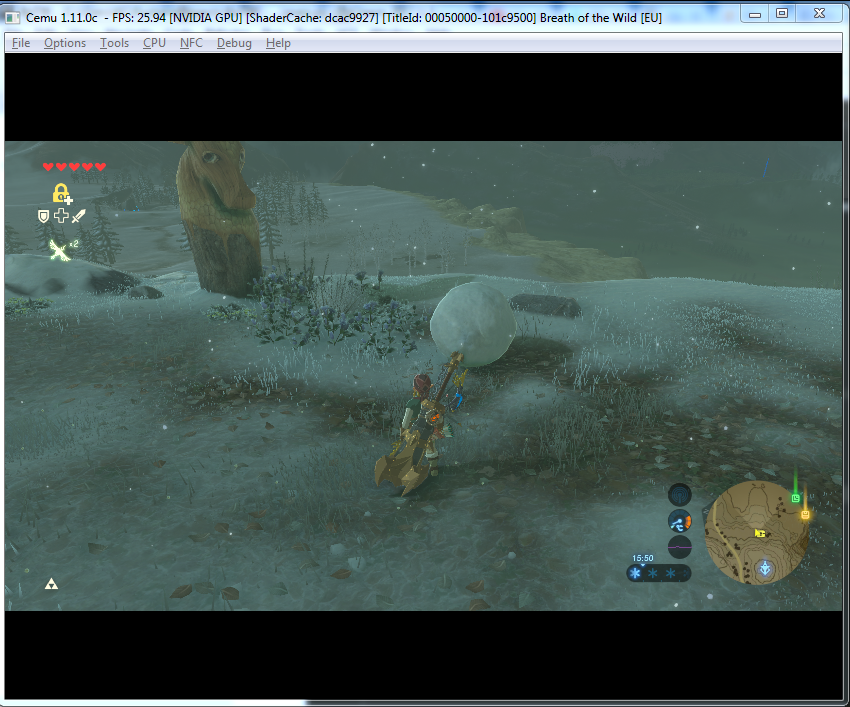link: (374, 343, 469, 499)
snowball: (416, 277, 548, 374)
totem: (170, 133, 278, 297)
